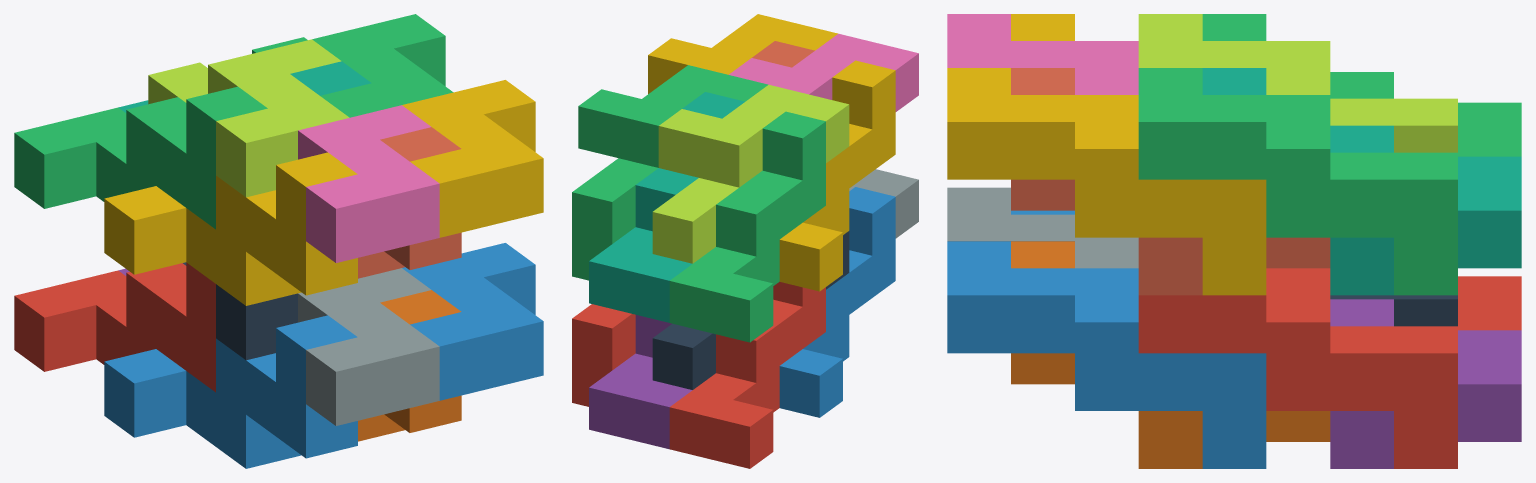
File: tiling.obj
3 views of the same model, side by side, from view 1: azimuth 30°, elevation 25°; view 2: azimuth 150°, elevation 25°; view 3: azimuth 270°, elevation 25° (orthographic). The views are drawn at different scales.
Visible parts, largest first — view 1: copy_1_domain_2, copy_1_domain_4, copy_1_domain_3, copy_1_domain_1, copy_2_domain_4, copy_2_domain_2, copy_2_domain_8, copy_2_domain_6, copy_2_domain_3, copy_2_domain_7, copy_1_domain_8, copy_1_domain_6 (+2 smaller); view 2: copy_1_domain_3, copy_2_domain_3, copy_1_domain_1, copy_2_domain_7, copy_1_domain_4, copy_1_domain_2, copy_1_domain_7, copy_1_domain_5, copy_2_domain_4, copy_2_domain_8, copy_2_domain_5, copy_2_domain_1 (+2 smaller); view 3: copy_2_domain_7, copy_2_domain_6, copy_2_domain_8, copy_2_domain_5, copy_1_domain_7, copy_2_domain_3, copy_1_domain_5, copy_1_domain_8, copy_1_domain_6, copy_2_domain_4, copy_2_domain_2, copy_1_domain_3 (+3 smaller).
Part boxes in pixels (x1,y1,x2,y2): copy_1_domain_2: (104, 315, 357, 468); copy_1_domain_4: (104, 152, 357, 305); copy_1_domain_3: (14, 86, 267, 229); copy_1_domain_1: (14, 262, 215, 392); copy_2_domain_4: (298, 105, 439, 262); copy_2_domain_2: (298, 268, 439, 425); copy_2_domain_8: (402, 80, 543, 237); copy_2_domain_6: (402, 243, 543, 400); copy_2_domain_3: (148, 39, 349, 197); copy_2_domain_7: (252, 14, 453, 117); copy_1_domain_8: (358, 127, 461, 278); copy_1_domain_6: (358, 290, 461, 441); copy_1_domain_3: (669, 111, 825, 342); copy_2_domain_3: (652, 85, 849, 263); copy_1_domain_1: (669, 281, 825, 468); copy_2_domain_7: (572, 65, 768, 280); copy_1_domain_4: (779, 60, 895, 291); copy_1_domain_2: (779, 187, 895, 417); copy_1_domain_7: (589, 92, 744, 322); copy_1_domain_5: (589, 315, 692, 449); copy_2_domain_4: (729, 33, 918, 111); copy_2_domain_8: (648, 14, 837, 93); copy_2_domain_5: (572, 304, 635, 406); copy_2_domain_1: (652, 231, 849, 389); copy_2_domain_7: (1138, 68, 1457, 295); copy_2_domain_6: (947, 241, 1266, 468); copy_2_domain_8: (947, 68, 1266, 295); copy_2_domain_5: (1138, 268, 1457, 468); copy_1_domain_7: (1202, 68, 1521, 295); copy_2_domain_3: (1138, 14, 1457, 152); copy_1_domain_5: (1330, 299, 1521, 468); copy_1_domain_8: (1011, 68, 1330, 295); copy_1_domain_6: (1011, 241, 1330, 468); copy_2_domain_4: (947, 14, 1138, 94); copy_2_domain_2: (947, 187, 1138, 268); copy_1_domain_3: (1202, 14, 1521, 156).
Bounding box in the file's own units: 6 × 6 × 9.
